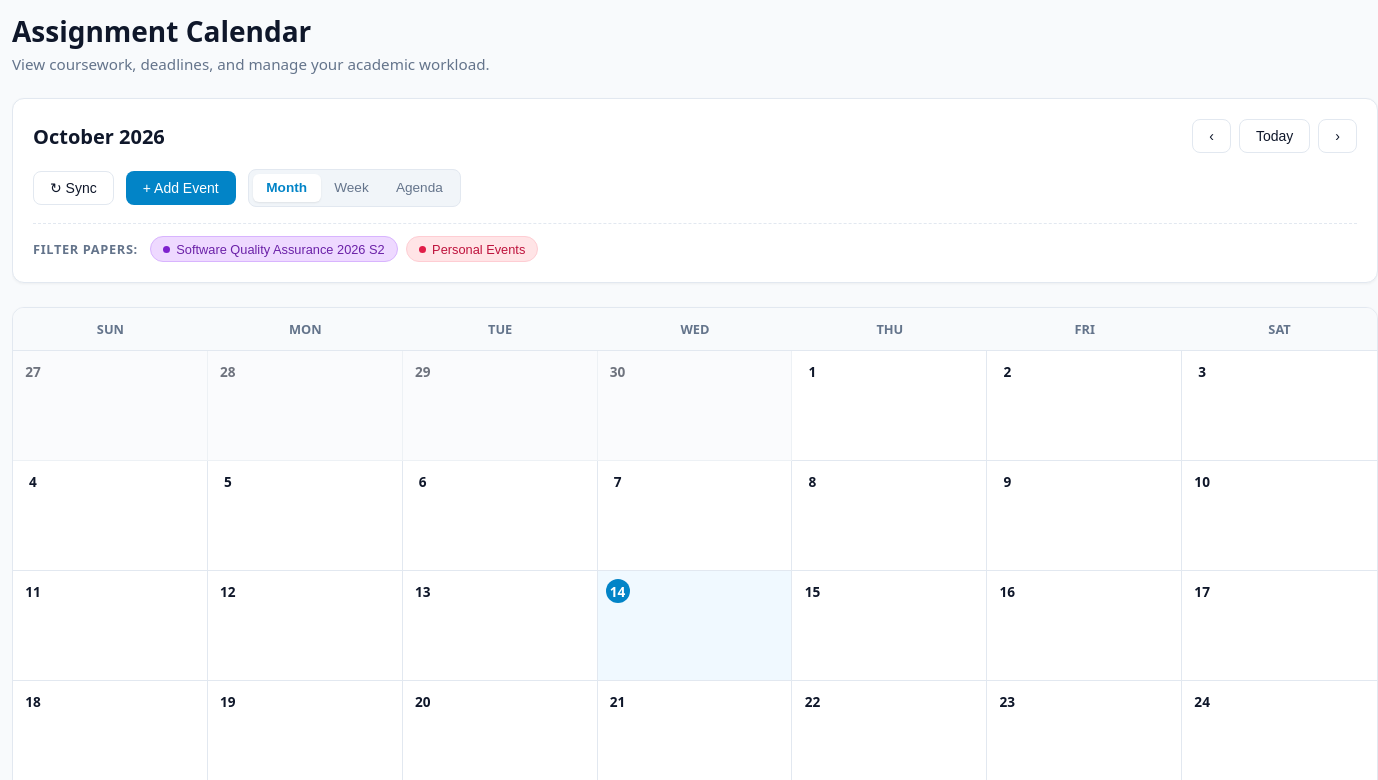
Test case: Calendar sync - keeping data current (FR-11) › TC-41: shows exactly one entry per unique event across syncs with new and repeated data
This screenshot has width=1378, height=780.
Click the button "Agenda" at (419, 188), box [382,174,456,202]
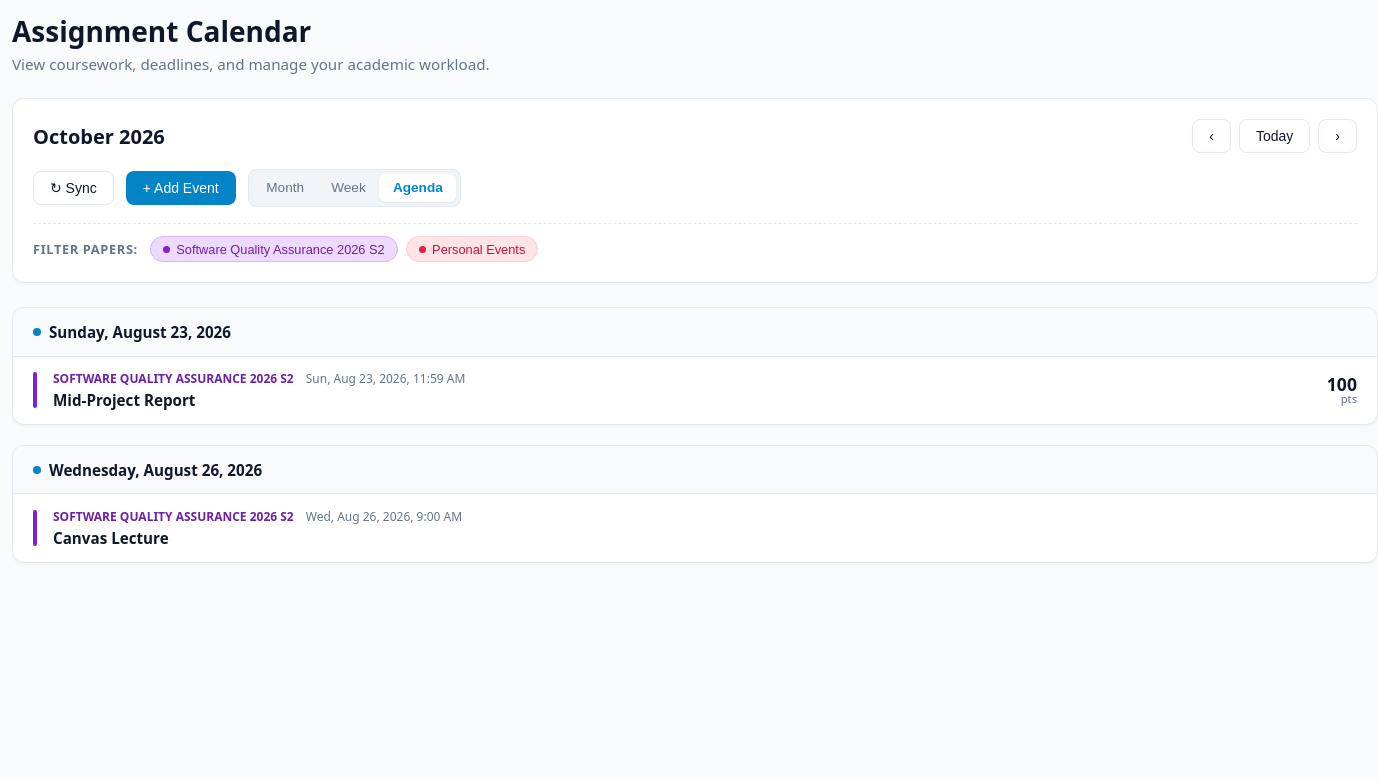
Check: the heading "Canvas Lecture" is shown, box [53,528,169,548]
Click the button "↻ Sync" at (73, 188), box [33,171,114,205]
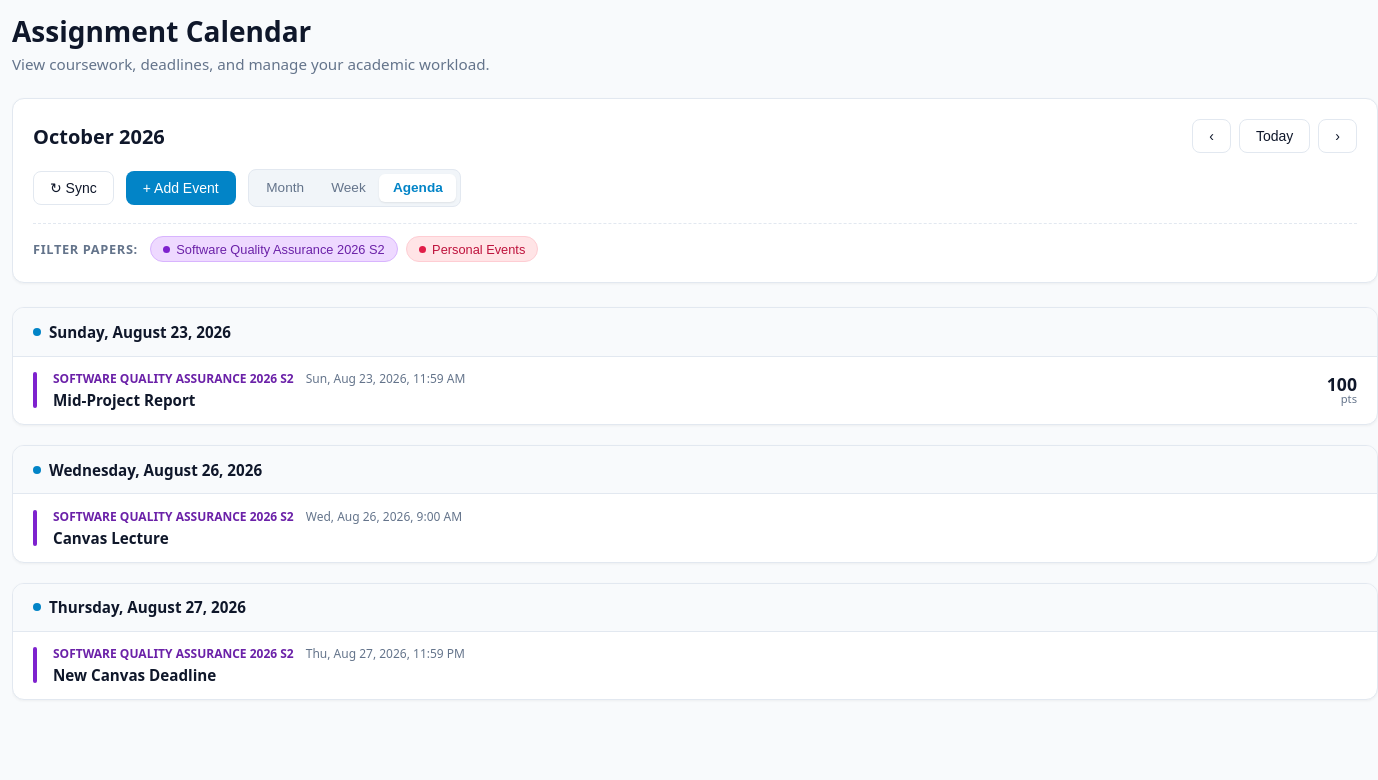
Check: the number of headings "Canvas Lecture" is 1, box [53,528,169,548]
Check: the number of headings "New Canvas Deadline" is 1, box [53,666,216,686]
